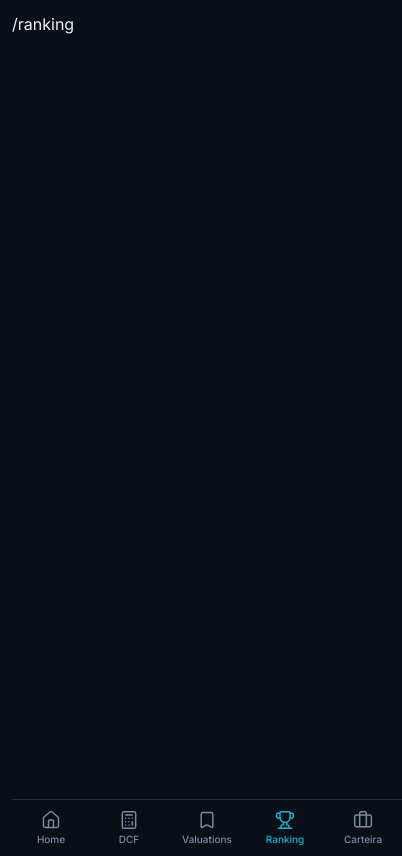
BottomNav › abre o popover mesmo já estando em /ranking
Click the button "Ranking" at [285, 828], box [246, 800, 324, 855]
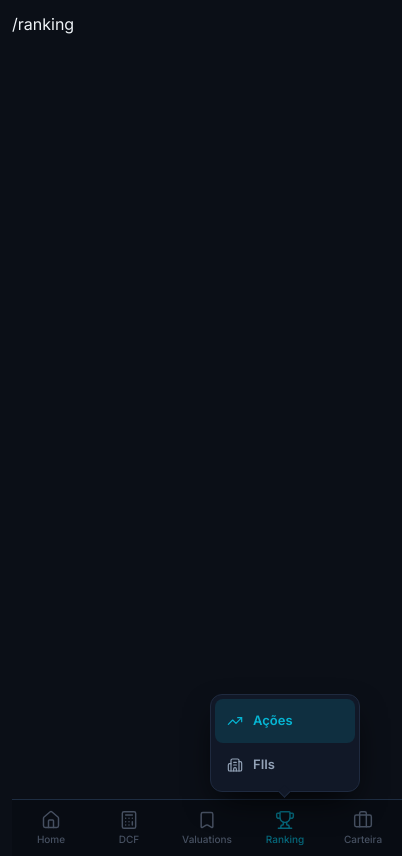
Check: the link "FIIs" is shown, box [227, 756, 275, 773]
